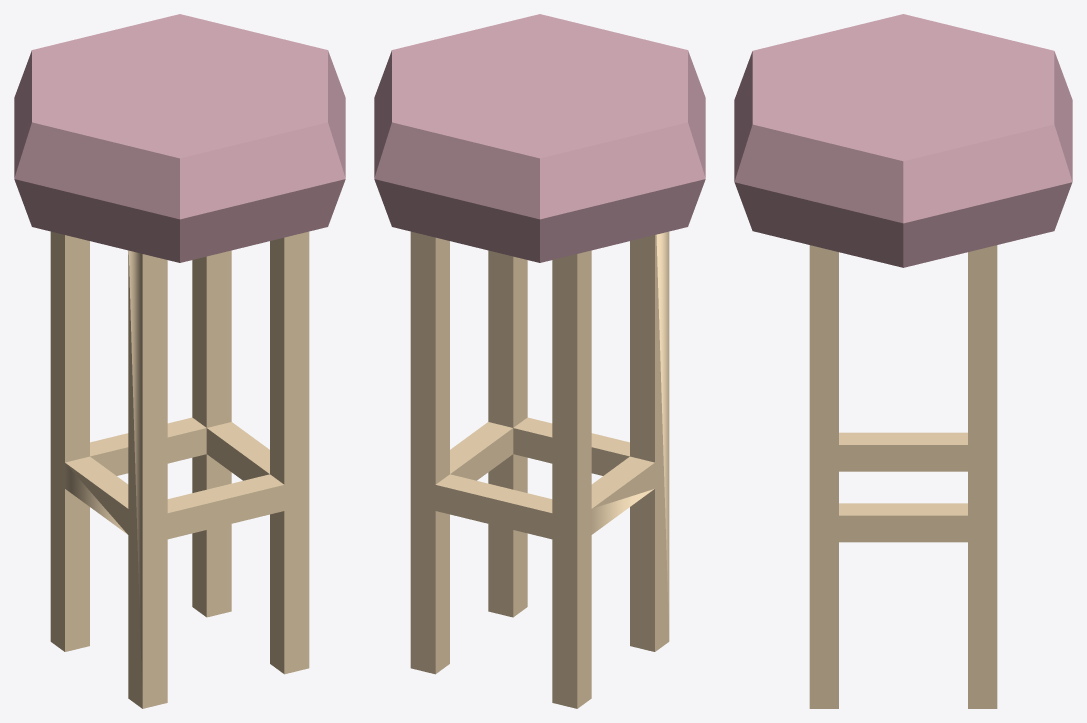
File: stoolBar.glb
The picture shows the model from 3 angles, left to right: view 1: azimuth 30°, elevation 25°; view 2: azimuth 150°, elevation 25°; view 3: azimuth 270°, elevation 25°; orthographic projection.
Parts seen in each view (by area): view 1: stoolBar(Clone); view 2: stoolBar(Clone); view 3: stoolBar(Clone).
Boxes of the visible parts, x1,y1,x2,y2 form: stoolBar(Clone): (14,14,345,708); stoolBar(Clone): (374,14,705,708); stoolBar(Clone): (734,14,1072,708).
Bounding box in the file's own units: 0.2654 × 0.435 × 0.2299.
